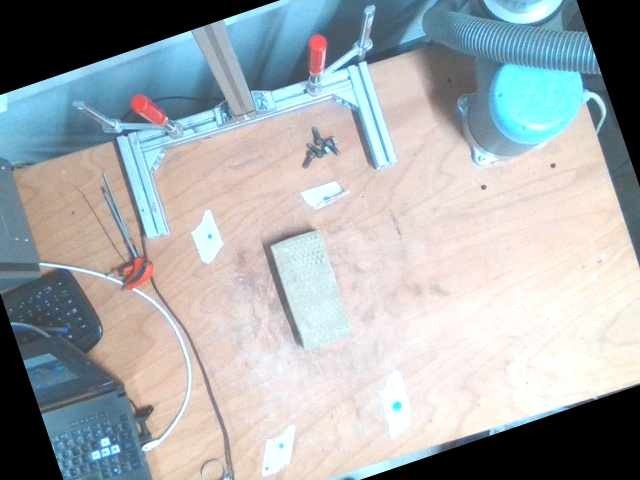brick: (272, 232, 352, 349)
